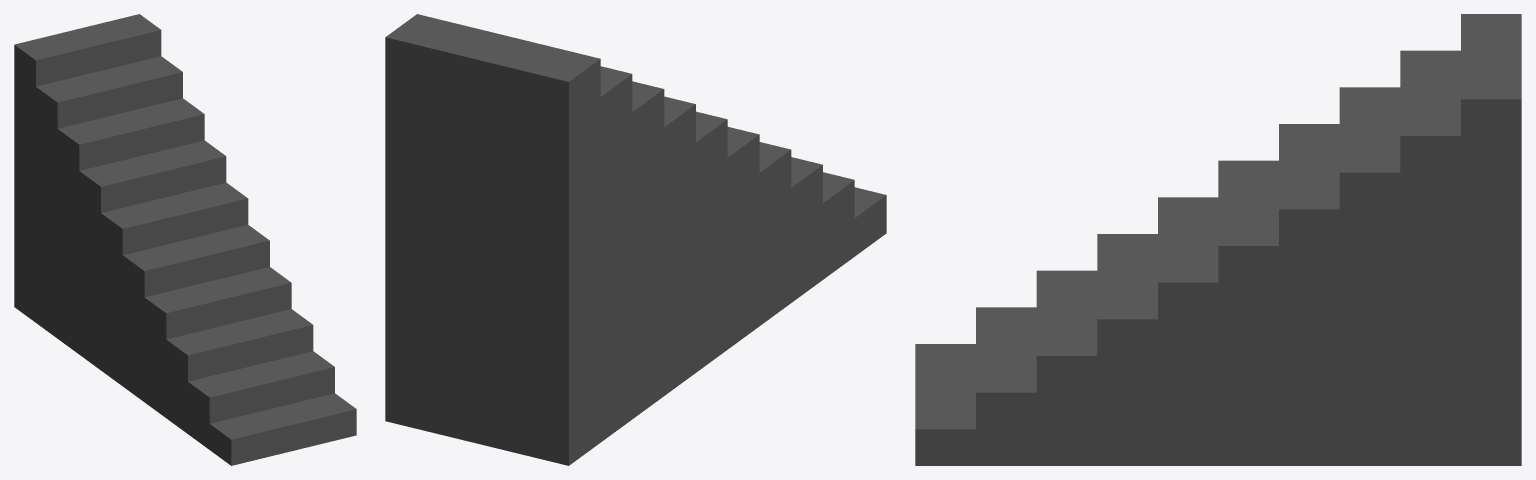
The model's file is Stairs_Small.fbx.
3 renders of one model, left to right at view 1: azimuth 30°, elevation 25°; view 2: azimuth 150°, elevation 25°; view 3: azimuth 270°, elevation 25°, orthographic. The views are drawn at different scales.
Parts seen in each view (by area): view 1: Stairs Small; view 2: Stairs Small; view 3: Stairs Small.
Part boxes in pixels (x1,y1,x2,y2): Stairs Small: (14, 14, 356, 465); Stairs Small: (385, 14, 886, 465); Stairs Small: (915, 14, 1521, 465).
Bounding box in the file's own units: 100 × 200 × 300.
